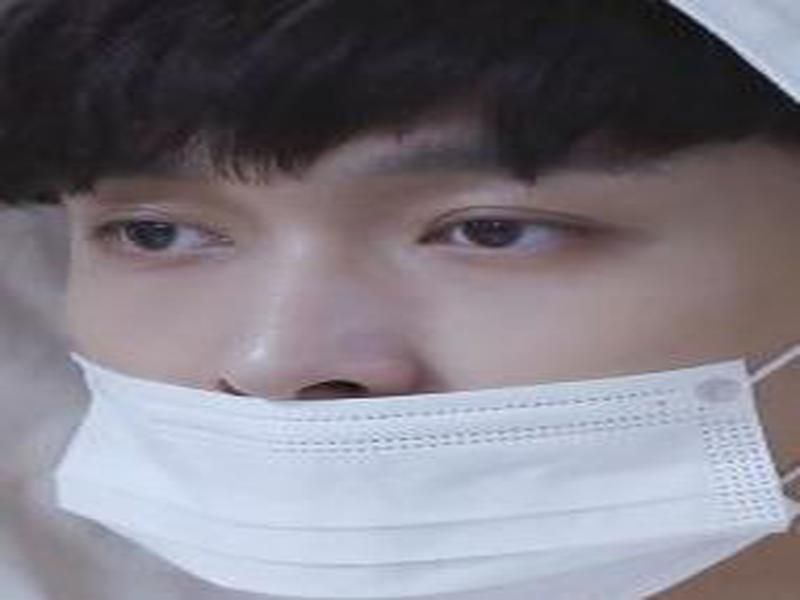with_mask: (49, 1, 794, 598)
